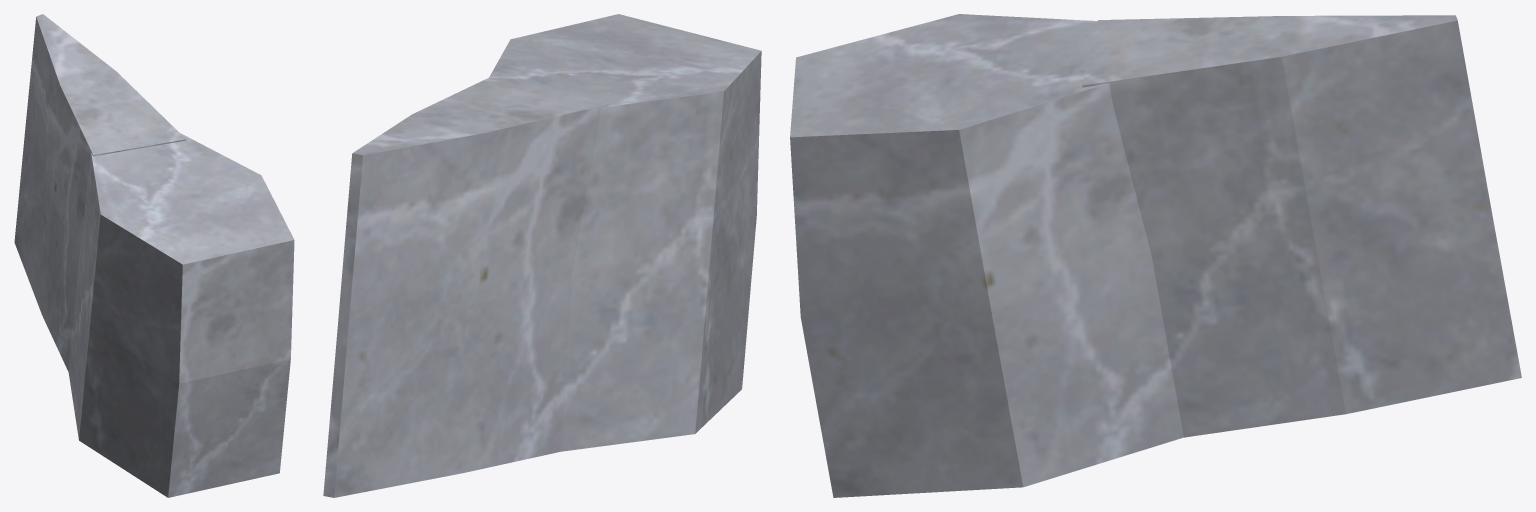
File: Axe aud head.obj
The picture shows the model from 3 angles, left to right: view 1: azimuth 30°, elevation 25°; view 2: azimuth 150°, elevation 25°; view 3: azimuth 270°, elevation 25°; orthographic projection. The views are drawn at different scales.
Visible parts, largest first — view 1: Head1; view 2: Head1; view 3: Head1.
Boxes of the visible parts, box(x1,y1,x2,y2) form: Head1: box(14, 14, 294, 497); Head1: box(323, 14, 761, 497); Head1: box(790, 14, 1521, 497).
Size of the model in its own units: 0.4103 by 0.758 by 1.1.
